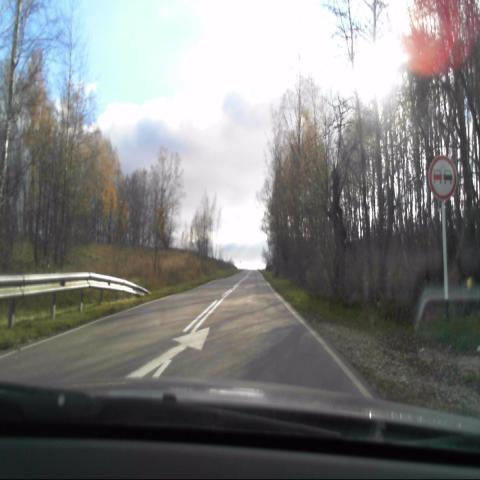3_20: (429, 152, 457, 201)
